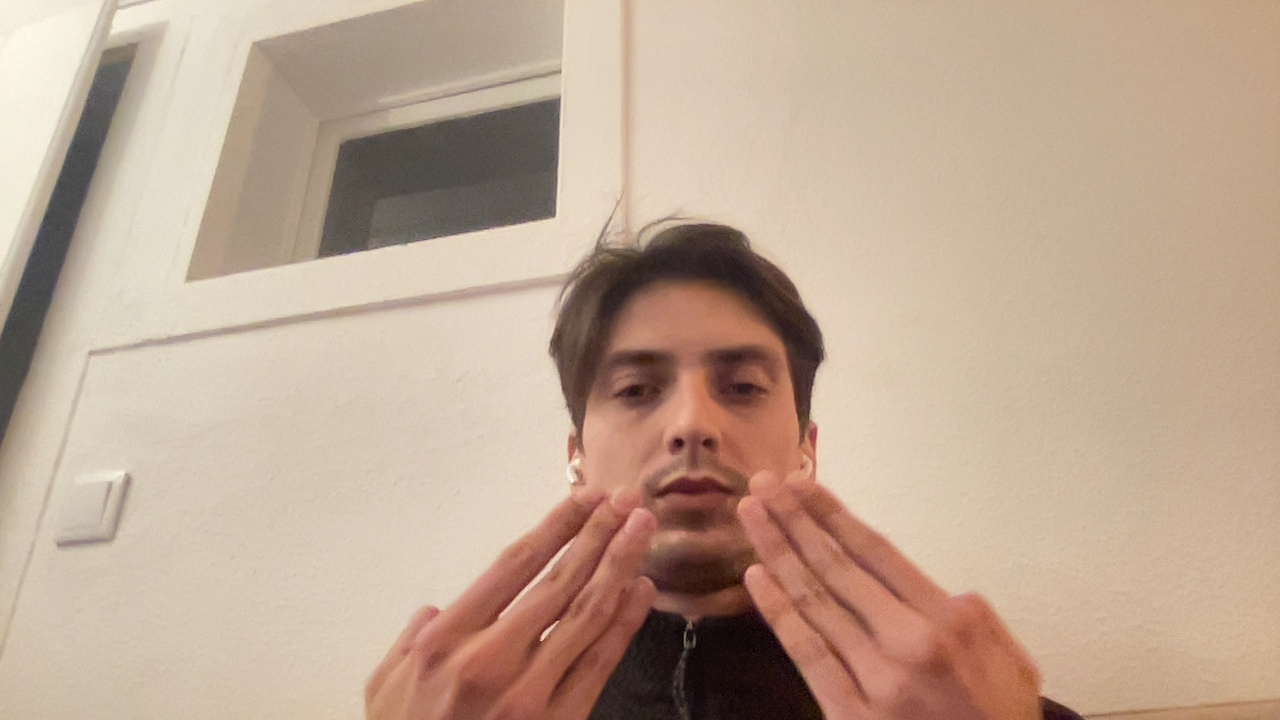Thank you: (708, 420, 1076, 720), (320, 444, 673, 719)
